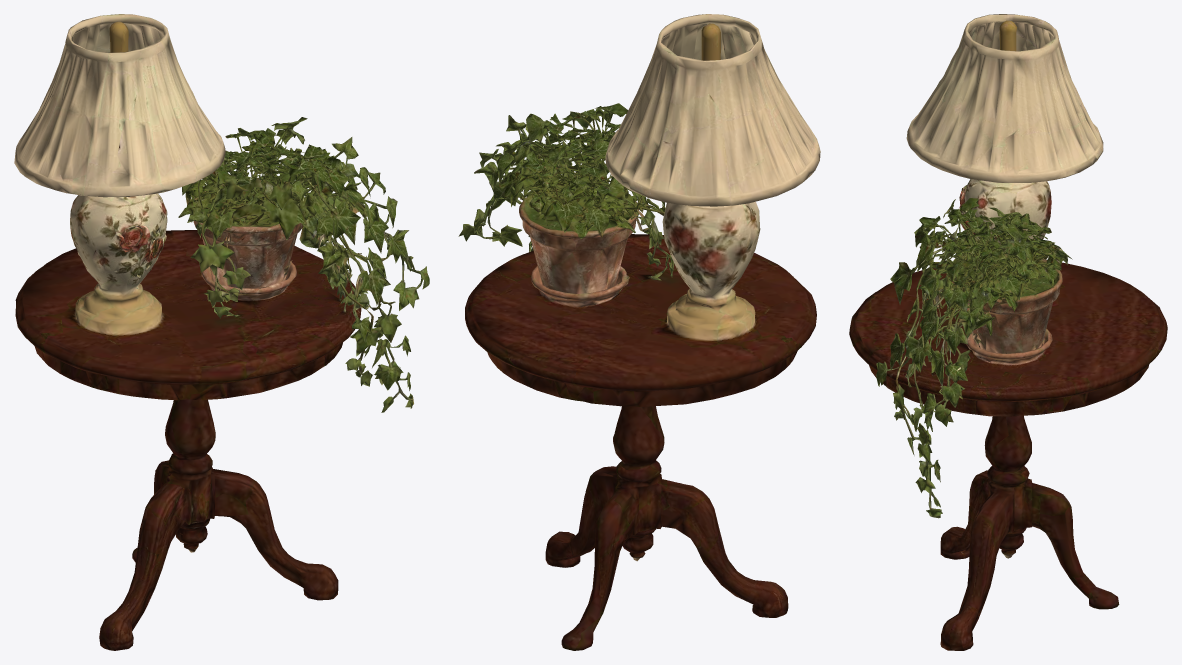
The model's file is sidetable.glb.
The picture shows the model from 3 angles, left to right: view 1: azimuth 30°, elevation 25°; view 2: azimuth 150°, elevation 25°; view 3: azimuth 270°, elevation 25°; orthographic projection. The views are drawn at different scales.
Bounding box in the file's own units: 1.24 × 1.9 × 1.
1 material, 1 textured.
